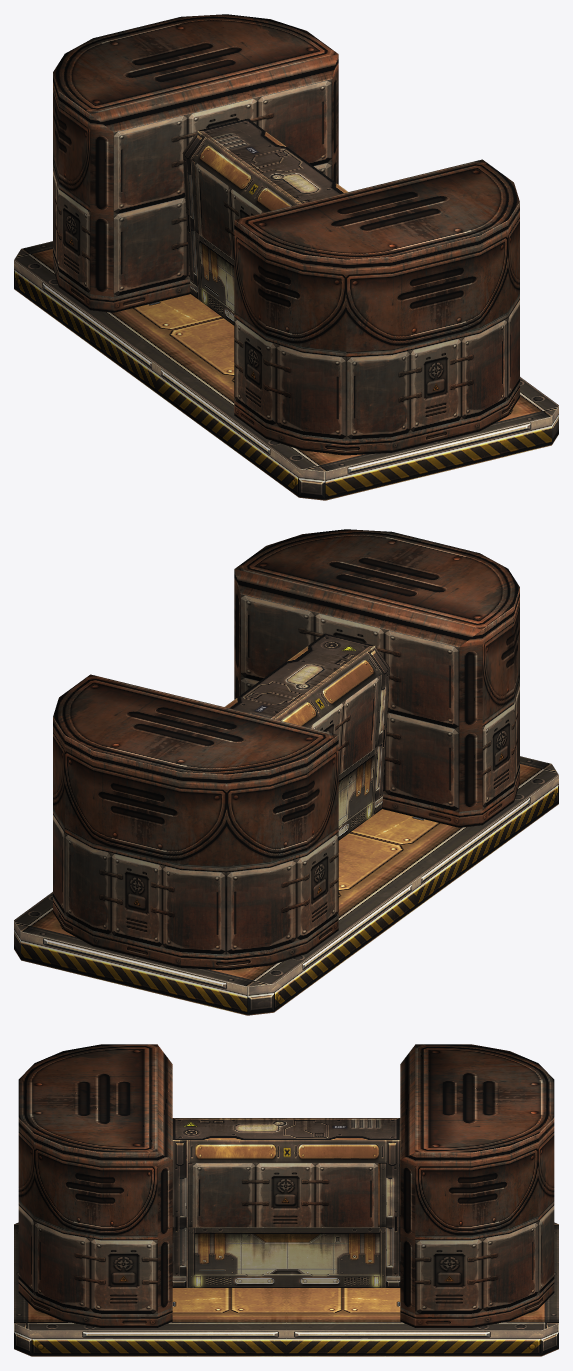
Rendered from mpr_machine_02.FBX.
The picture shows the model from 3 angles, top to bottom: view 1: azimuth 30°, elevation 25°; view 2: azimuth 150°, elevation 25°; view 3: azimuth 270°, elevation 25°; orthographic projection. The views are drawn at different scales.
Parts seen in each view (by area): view 1: mpr_machine_02; view 2: mpr_machine_02; view 3: mpr_machine_02.
Boxes of the visible parts, x1,y1,x2,y2 form: mpr_machine_02: [14, 14, 558, 500]; mpr_machine_02: [14, 529, 558, 1015]; mpr_machine_02: [14, 1044, 558, 1356].
Size of the model in its own units: 364 by 301 by 738.
2 materials, 2 textured.
